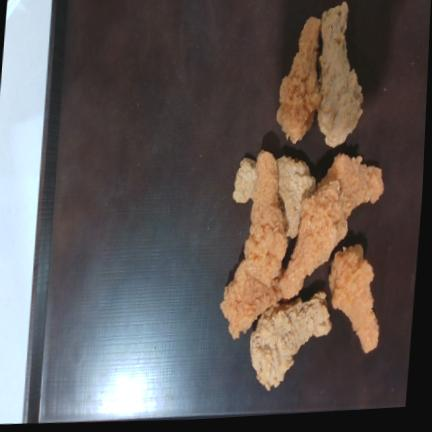chicken: (279, 180, 348, 298), (250, 291, 331, 391), (318, 2, 363, 147), (245, 151, 287, 285), (277, 17, 320, 143), (329, 245, 378, 353), (220, 263, 281, 339), (317, 154, 383, 217)
